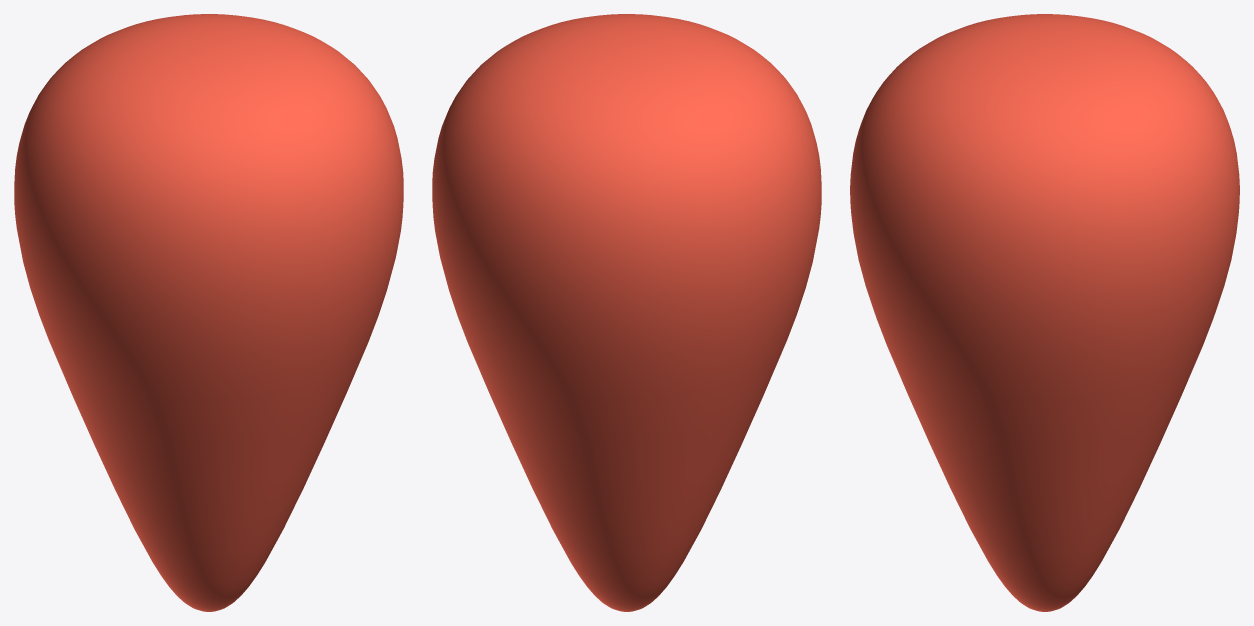
File: Pin_Test.dae
3 views of the same model, side by side, from view 1: azimuth 30°, elevation 25°; view 2: azimuth 150°, elevation 25°; view 3: azimuth 270°, elevation 25° (orthographic).
Parts seen in each view (by area): view 1: Brep; view 2: Brep; view 3: Brep.
Boxes of the visible parts, x1=… form: Brep: x1=14, y1=14, x2=403, y2=611; Brep: x1=432, y1=14, x2=821, y2=611; Brep: x1=850, y1=14, x2=1239, y2=611.
Bounding box in the file's own units: 6.25 × 6.25 × 10.
